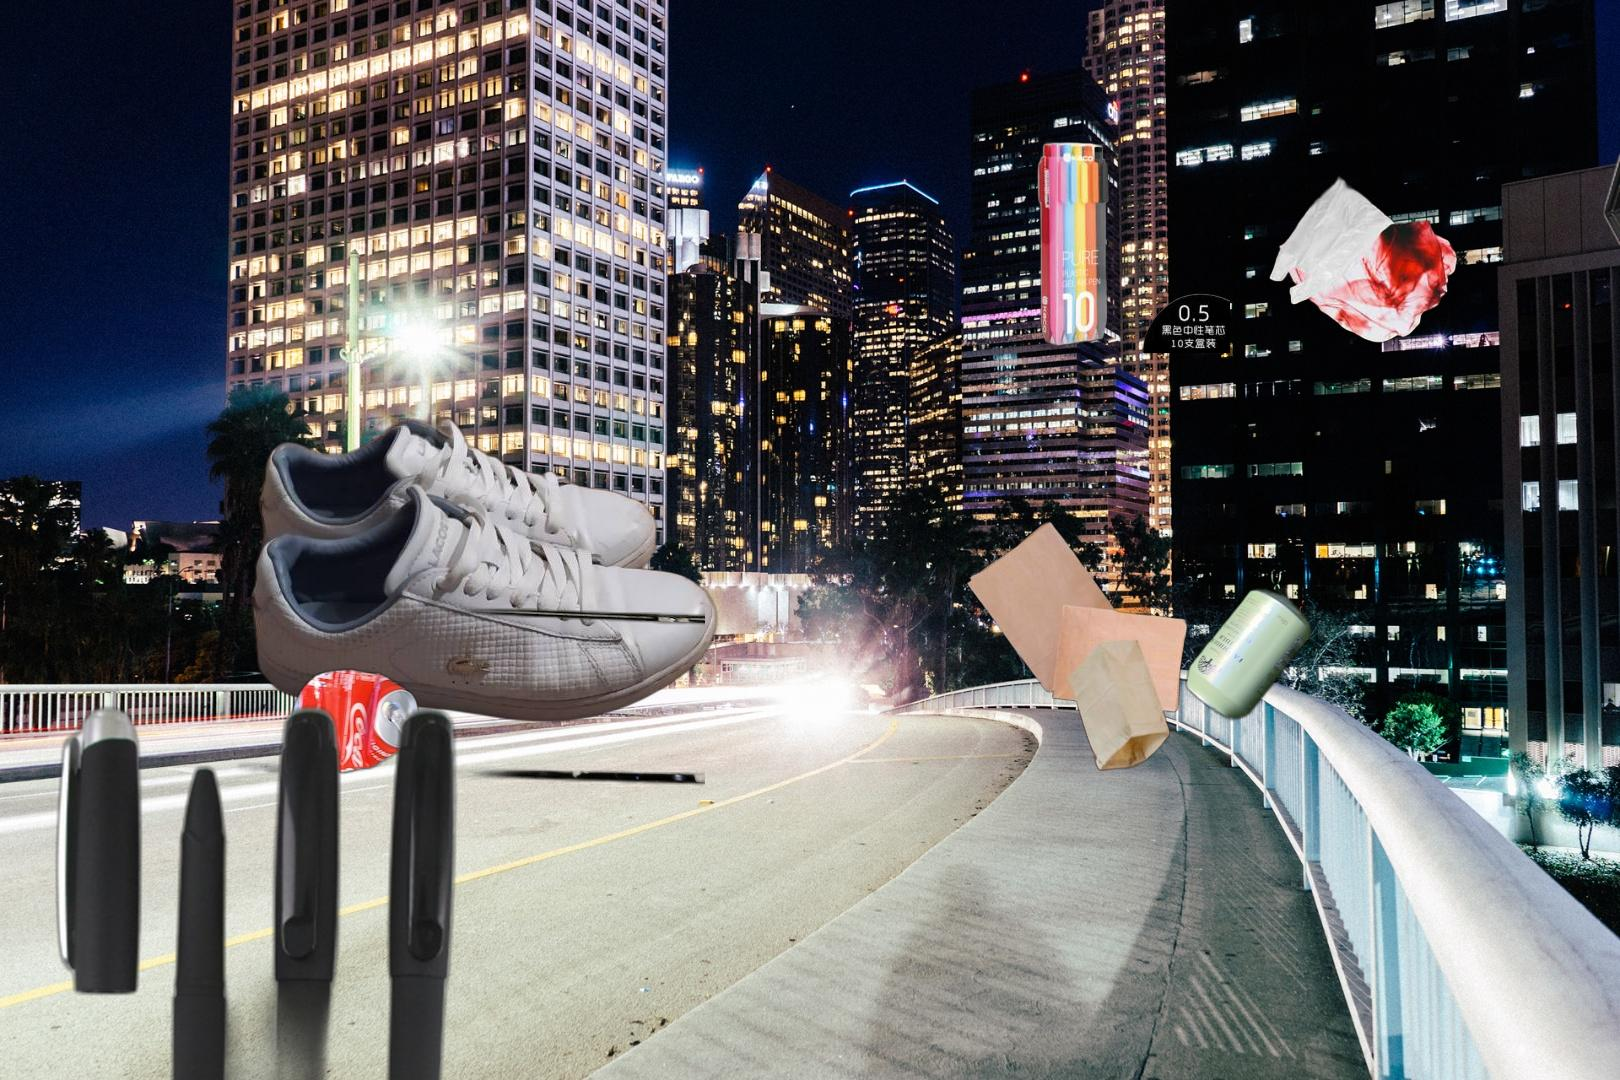metal-cans: (193, 523, 705, 900), (861, 582, 1319, 934)
paper-bag: (965, 520, 1188, 774)
penholder: (49, 702, 463, 1080), (1033, 139, 1229, 353)
plastic-bag: (1266, 174, 1460, 346)
shoes: (245, 411, 722, 724)
trashbox-cardboard: (1597, 40, 1620, 622)
